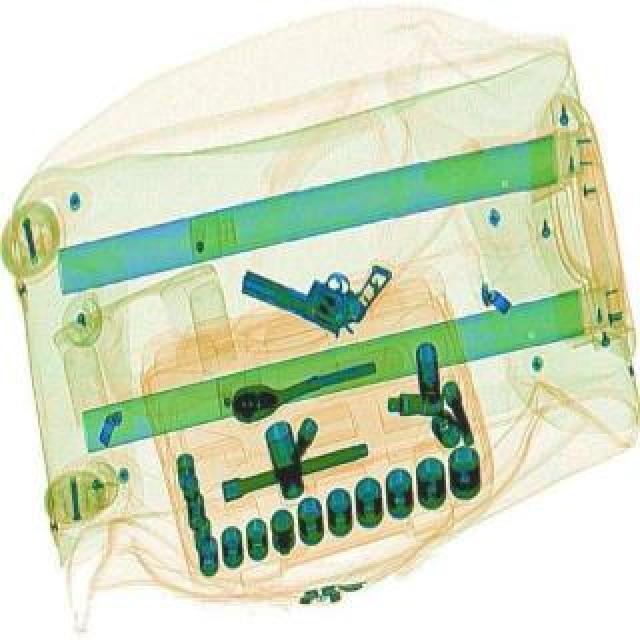gun: (232, 222, 396, 344)
